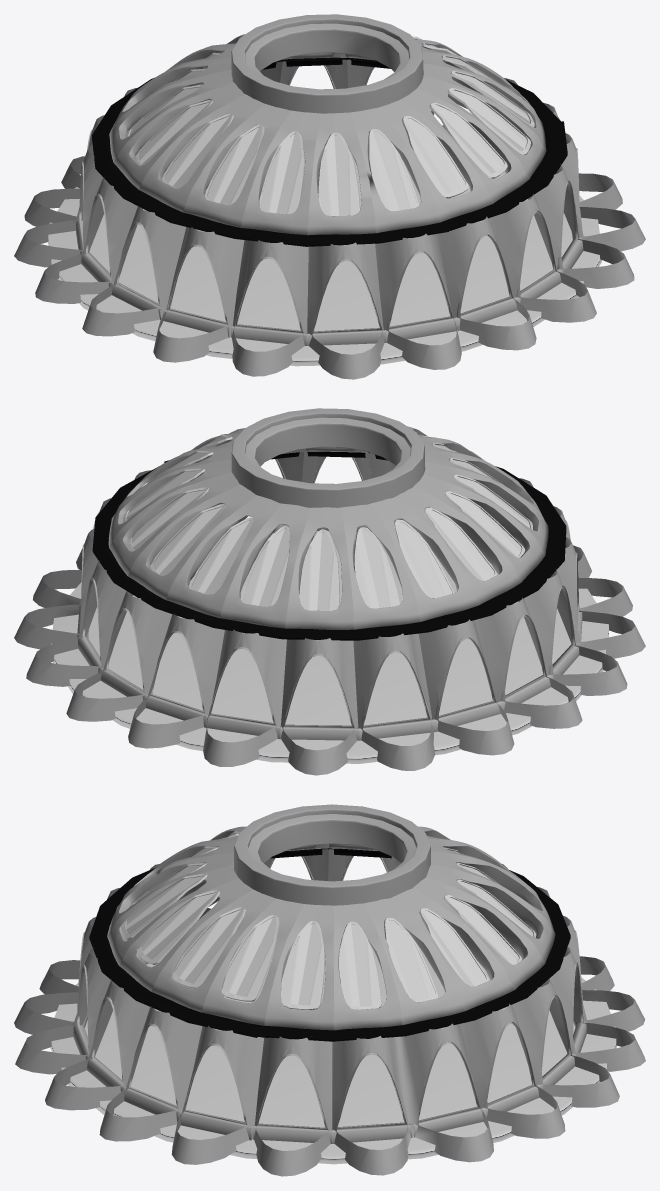
Rendered from Building update.fbx.
3 views of the same model, one above another, from view 1: azimuth 30°, elevation 25°; view 2: azimuth 150°, elevation 25°; view 3: azimuth 270°, elevation 25° (orthographic). The views are drawn at different scales.
Visible parts, largest first — view 1: pasted__Window_low24, polySurface258, pasted__polySurface185; view 2: pasted__Window_low24, polySurface258, pasted__polySurface185; view 3: pasted__Window_low24, polySurface258, pasted__polySurface185.
Boxes of the visible parts, x1,y1,x2,y2 form: pasted__Window_low24: [109, 14, 546, 235]; polySurface258: [14, 57, 645, 379]; pasted__polySurface185: [48, 151, 601, 366]; pasted__Window_low24: [108, 408, 548, 629]; polySurface258: [14, 451, 645, 775]; pasted__polySurface185: [51, 531, 608, 763]; pasted__Window_low24: [107, 804, 555, 1030]; polySurface258: [14, 848, 645, 1176]; pasted__polySurface185: [50, 935, 617, 1164].
Size of the model in its own units: 1549 by 537 by 1537.
